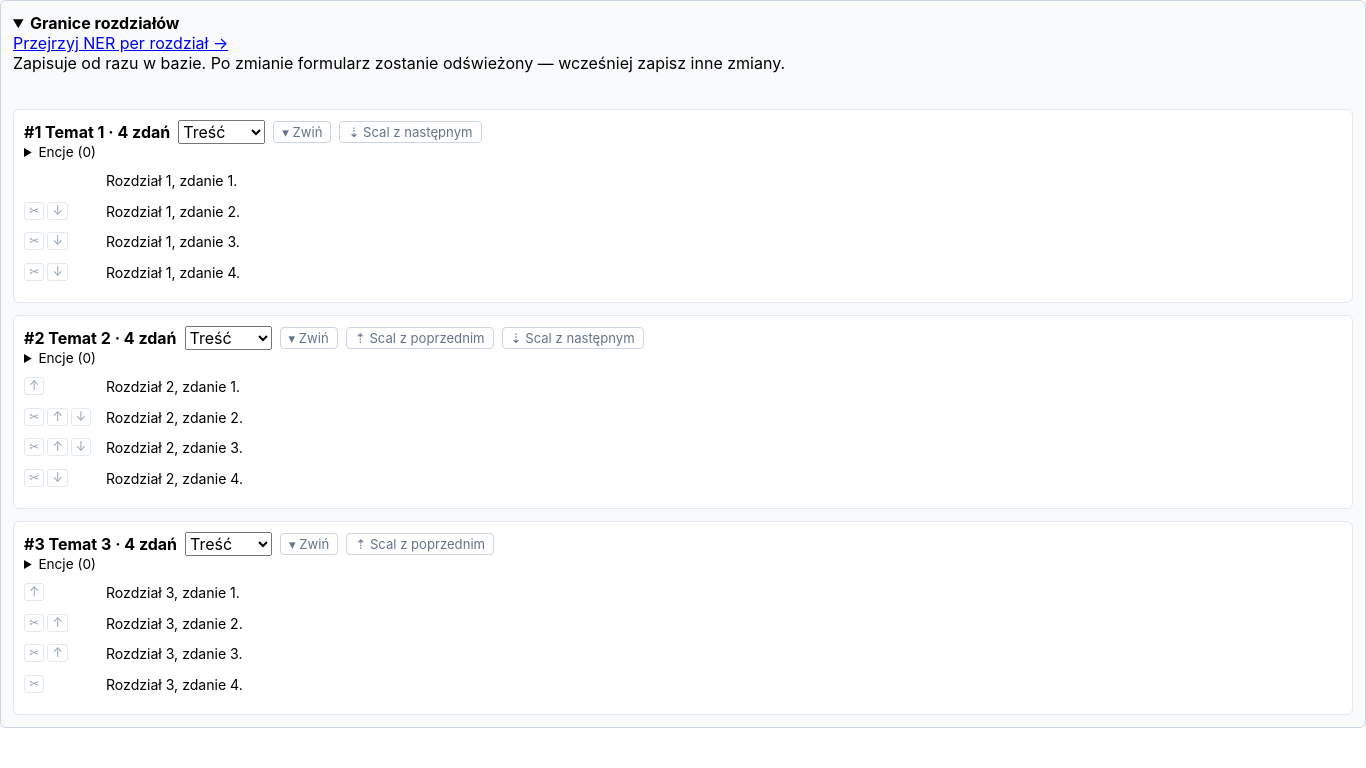
Test: restores the correct global sentence anchor for up after the fresh rows render
Expected: the text "#1 Temat 1 · 4 zdań" is shown, [24,122,170,142]
Click the button with aria-label "Zwiń rozdział 1" at x=302, y=132, box [273,121,331,143]
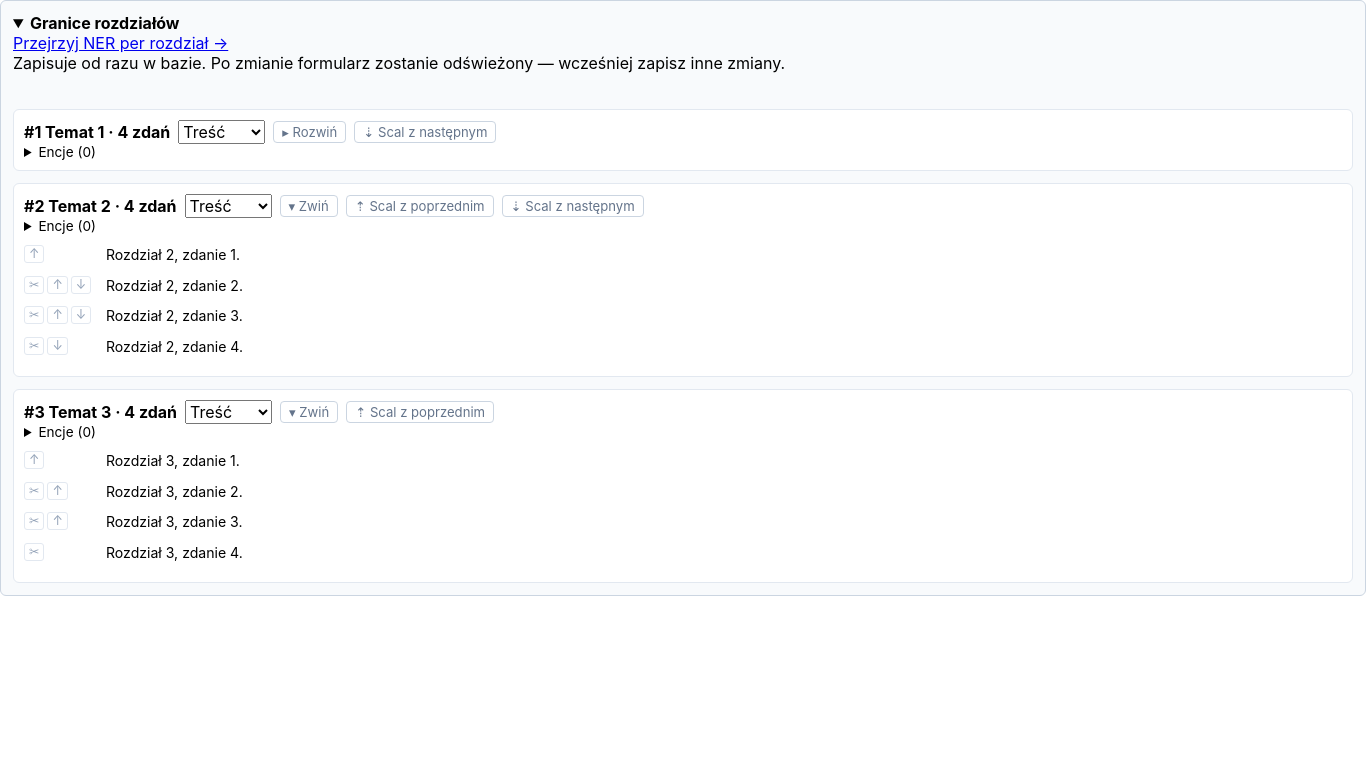
Click the button "↑" next to "Rozdział 2, zdanie 2." at x=58, y=285, box [48,276,68,294]
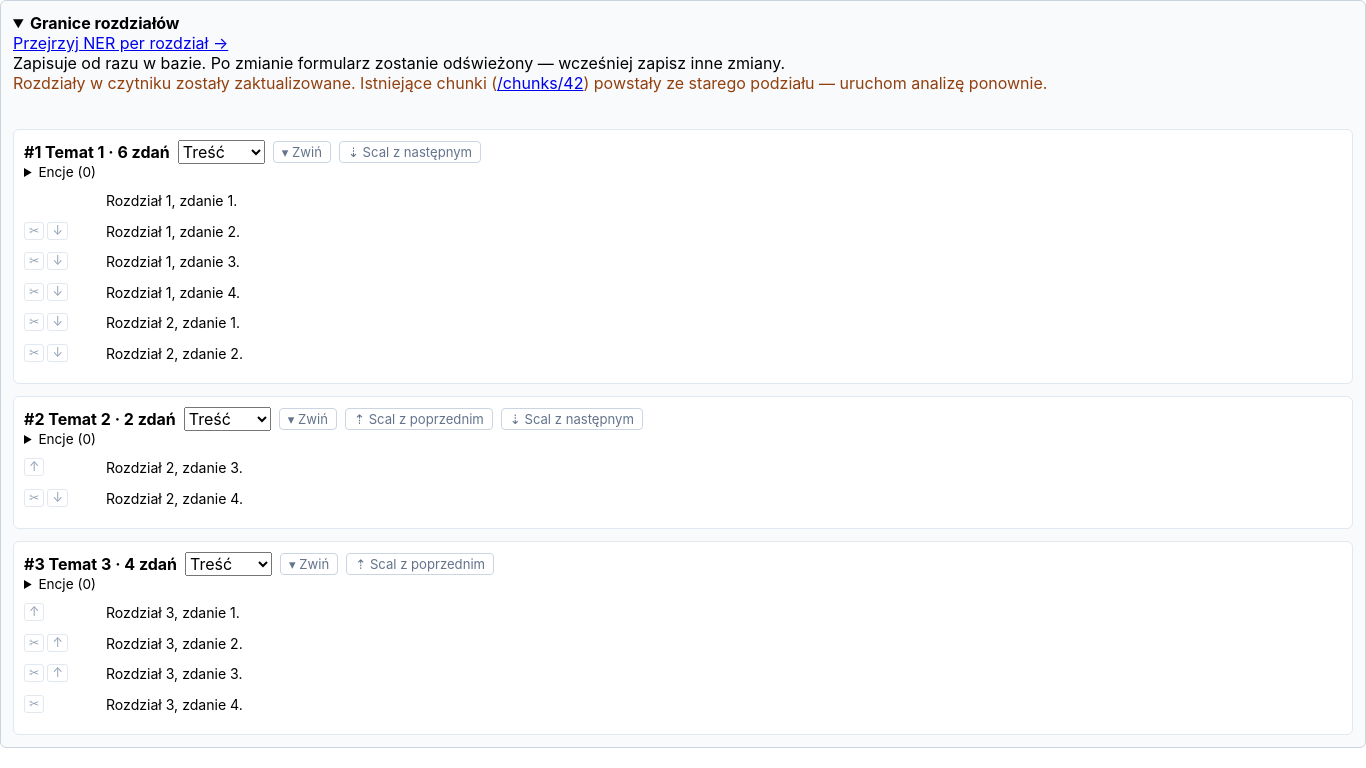
Expected: the button with aria-label "Zwiń rozdział 2" is shown, [279,408,337,430]
Result: the text "Rozdział 2, zdanie 3." is shown at [106,459,243,476]
